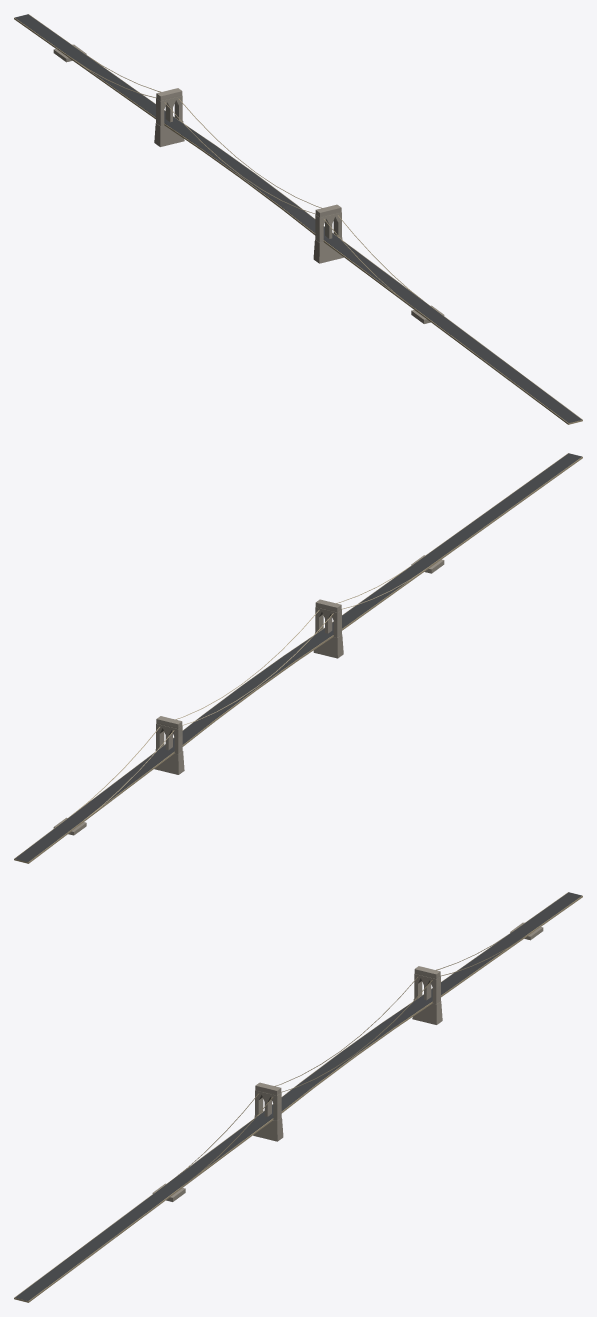
The picture shows the model from 3 angles, top to bottom: view 1: azimuth 30°, elevation 25°; view 2: azimuth 150°, elevation 25°; view 3: azimuth 330°, elevation 25°; orthographic projection.
Visible parts, largest first — view 1: brooklyn-bridge-lod3-body; view 2: brooklyn-bridge-lod3-body; view 3: brooklyn-bridge-lod3-body.
Boxes of the visible parts, x1,y1,x2,y2 form: brooklyn-bridge-lod3-body: (14, 14, 582, 424); brooklyn-bridge-lod3-body: (14, 453, 582, 863); brooklyn-bridge-lod3-body: (14, 892, 582, 1302).
Bounding box in the file's own units: 43 × 84 × 1692.
